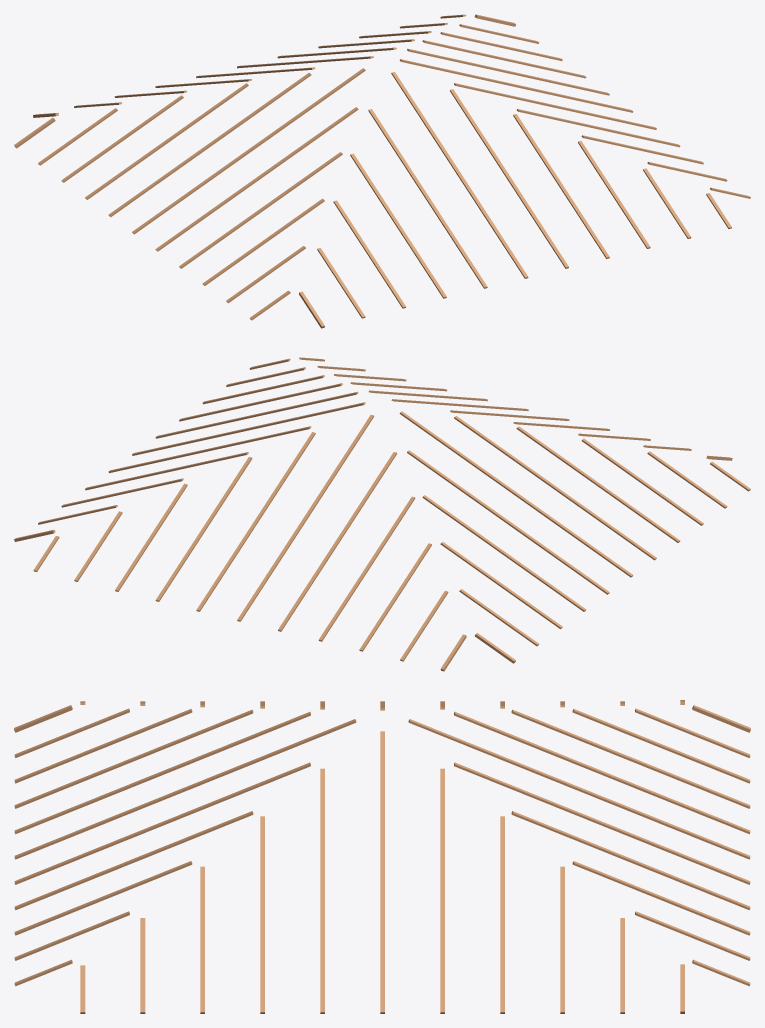
3 views of the same model, one above another, from view 1: azimuth 30°, elevation 25°; view 2: azimuth 150°, elevation 25°; view 3: azimuth 270°, elevation 25° (orthographic). The views are drawn at different scales.
Parts seen in each view (by area): view 1: Vertikal_ges; view 2: Vertikal_ges; view 3: Vertikal_ges.
Boxes of the visible parts, x1=… form: Vertikal_ges: x1=14, y1=14, x2=750, y2=328; Vertikal_ges: x1=14, y1=357, x2=750, y2=671; Vertikal_ges: x1=14, y1=700, x2=750, y2=1013.
Size of the model in its own units: 10.89 by 2.26 by 10.89.
